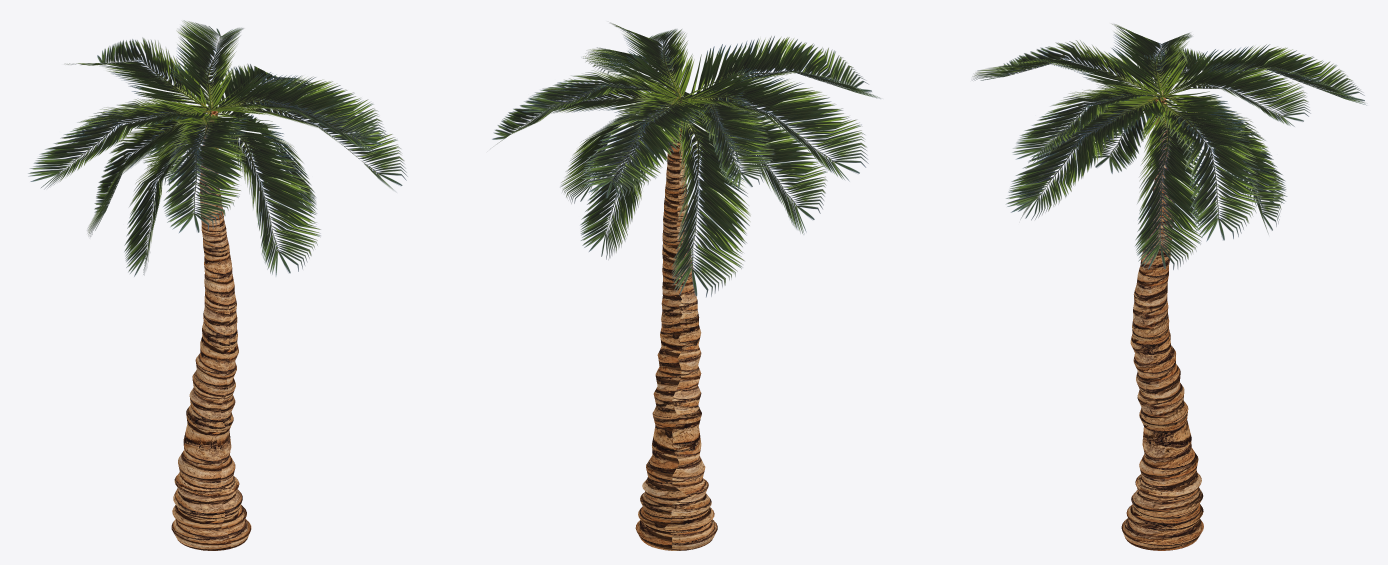
3 views of the same model, side by side, from view 1: azimuth 30°, elevation 25°; view 2: azimuth 150°, elevation 25°; view 3: azimuth 270°, elevation 25° (orthographic). The views are drawn at different scales.
Parts seen in each view (by area): view 1: Tree; view 2: Tree; view 3: Tree.
Part boxes in pixels (bbox=[...]): Tree: bbox=[28, 20, 407, 550]; Tree: bbox=[492, 22, 880, 550]; Tree: bbox=[972, 24, 1366, 550].
Bounding box in the file's own units: 4.89 × 6.11 × 5.05.
Materials: 2 (2 with a texture image).
